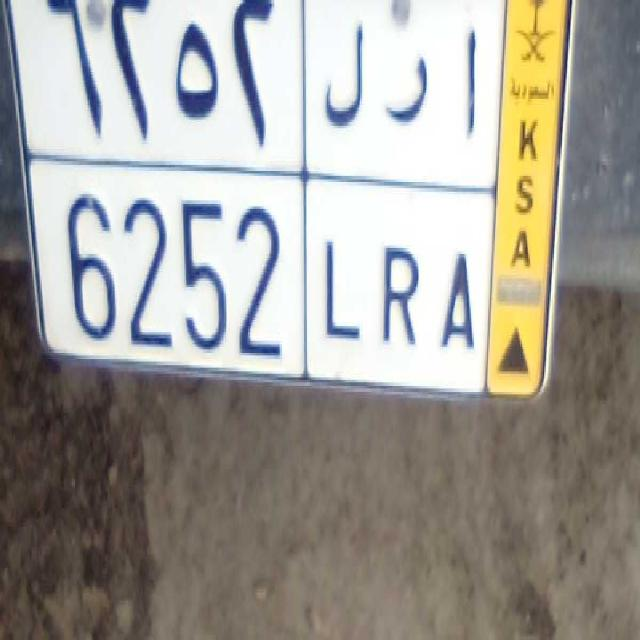license_plate: (34, 139, 484, 405)
